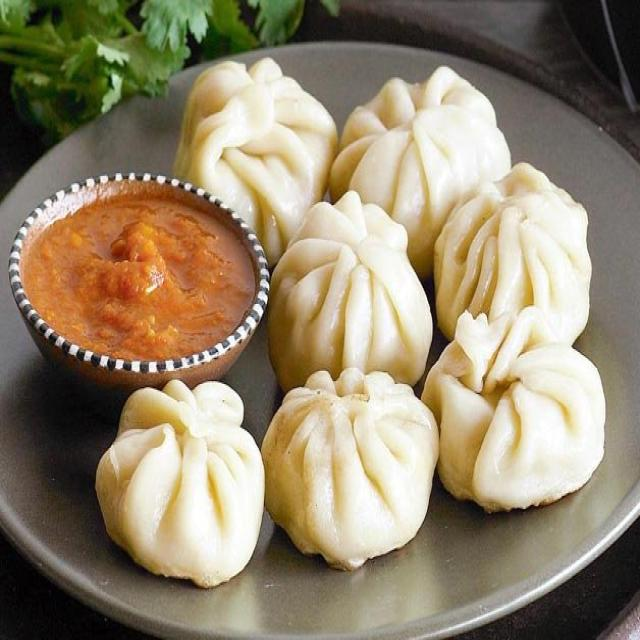momos: (284, 60, 612, 535), (83, 375, 277, 579)
